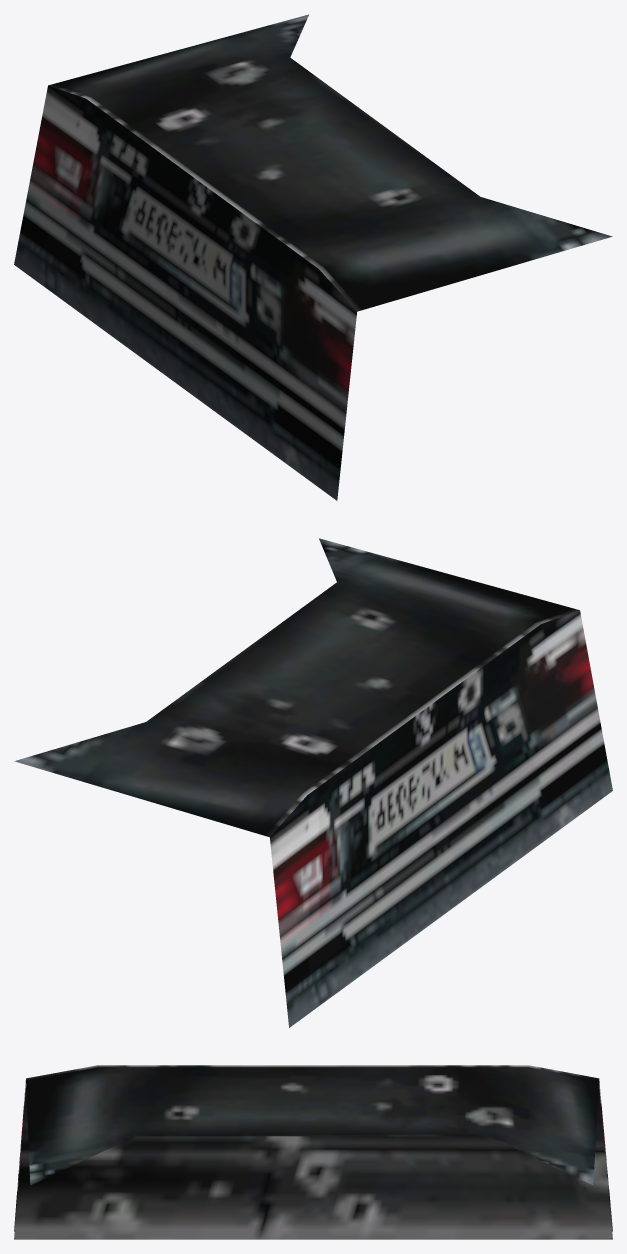
File: Shared - Ground Vehicles - Car Limo 3 - Damage State 2 - CVLimo3_d2.glb
3 views of the same model, one above another, from view 1: azimuth 30°, elevation 25°; view 2: azimuth 150°, elevation 25°; view 3: azimuth 270°, elevation 25° (orthographic). The views are drawn at different scales.
Parts seen in each view (by area): view 1: CVLIMO3_D2; view 2: CVLIMO3_D2; view 3: CVLIMO3_D2.
Part boxes in pixels (x1,y1,x2,y2): CVLIMO3_D2: (14,14,612,500); CVLIMO3_D2: (14,538,612,1027); CVLIMO3_D2: (14,1065,612,1239).
Bounding box in the file's own units: 5.34 × 3.82 × 10.48.
Materials: 1 (1 with a texture image).
